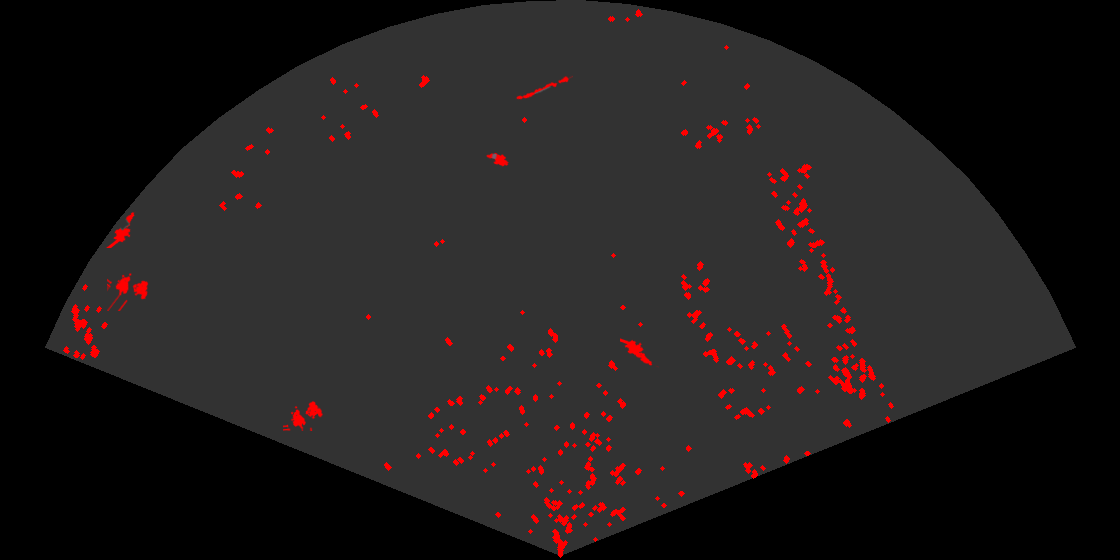AUV: (485, 151, 510, 168)
cage: (107, 271, 150, 311), (283, 400, 325, 431)
chain: (514, 74, 573, 101)
frogman: (105, 210, 137, 248), (620, 337, 659, 368)
